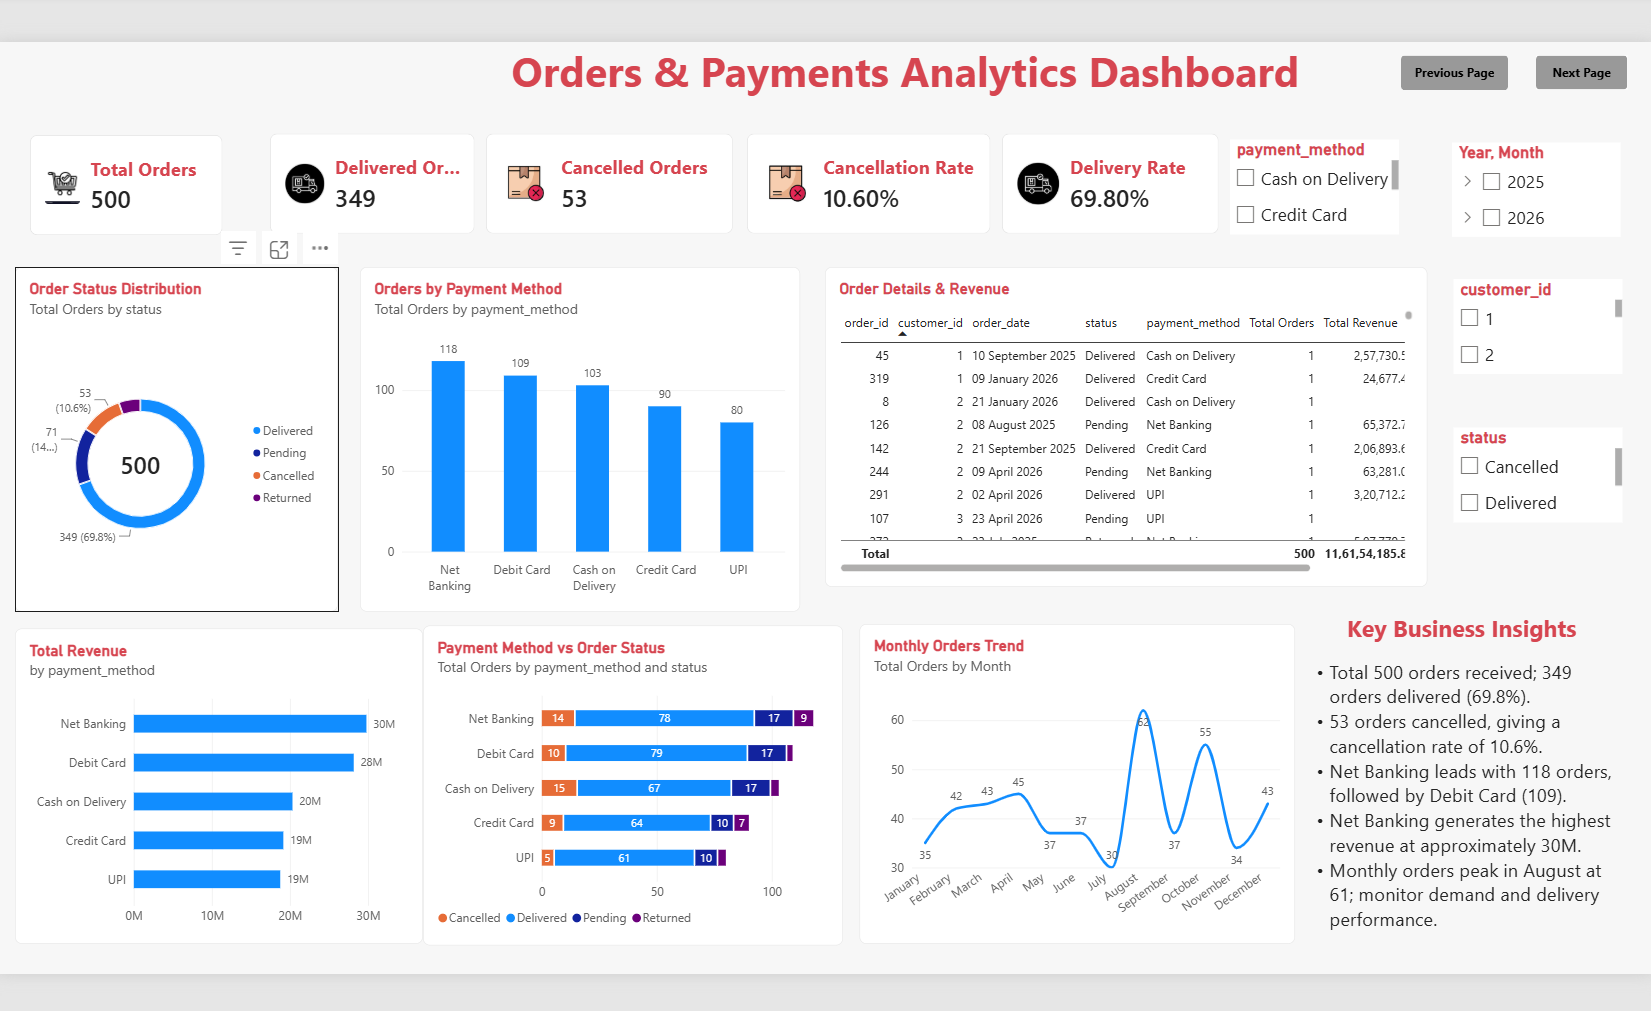

This screenshot's page, from the dashboard's own definition file:
{"tool":"powerbi","page":{"name":"Orders & Payment Analytics","canvas":[1920,1080],"ordinal":3},"visuals":[{"type":"textbox","box":[596.4,0,930.2,78.4],"z":0},{"type":"cardVisual","fields":{"Data":["order_items.Total Orders"]},"box":[37.6,107.4,223.7,116.3],"z":1000},{"type":"cardVisual","fields":{"Data":["order_items.Delivered Orders"]},"box":[315.5,105.8,237.1,116.7],"z":2000},{"type":"cardVisual","fields":{"Data":["orders.Cancelled Orders"]},"box":[567.3,105.8,286.4,116.7],"z":3000},{"type":"cardVisual","fields":{"Data":["orders.Cancellation Rate"]},"box":[868.2,105.8,282.7,116.7],"z":4000},{"type":"cardVisual","fields":{"Data":["orders.Delivery Rate"]},"box":[1163.7,105.8,251.7,116.7],"z":5000},{"type":"donutChart","title":"Order Status Distribution","fields":{"Category":["orders.status"],"Y":["order_items.Total Orders"]},"box":[21.5,261.3,374.1,399.2],"z":6000},{"type":"clusteredColumnChart","title":"Orders by Payment Method","fields":{"Category":["orders.payment_method"],"Y":["order_items.Total Orders"]},"box":[420.6,261.3,510.1,399.2],"z":7000},{"type":"clusteredBarChart","fields":{"Category":["orders.payment_method"],"Y":["order_items.Total Revenue"]},"box":[21.5,680.2,472.5,365.1],"z":8000},{"type":"lineChart","title":"Monthly Orders Trend","fields":{"Category":["DateTable.Date Hierarchy.Year","DateTable.Date Hierarchy.Month"],"Y":["order_items.Total Orders"]},"box":[998.8,674.8,504.8,370.5],"z":9000},{"type":"barChart","title":"Payment Method vs Order Status","fields":{"Category":["orders.payment_method"],"Series":["orders.status"],"Y":["order_items.Total Orders"]},"box":[494,676.6,486.9,370.5],"z":10000},{"type":"tableEx","title":"Order Details & Revenue","fields":{"Values":["orders.order_id","customers.customer_id","orders.order_date","orders.status","orders.payment_method","order_items.Total Orders","order_items.Total Revenue","order_items.Order Revenue"]},"box":[959.4,261.3,698.1,370.5],"z":11000},{"type":"textbox","box":[1512.1,660.5,370.2,384.1],"z":12000},{"type":"slicer","fields":{"Values":["DateTable.Date Hierarchy.Year","DateTable.Date Hierarchy.Month"]},"box":[1686.1,116.3,195.1,109.2],"z":13000},{"type":"slicer","fields":{"Values":["orders.status"]},"box":[1687.9,447.5,195.1,109.2],"z":14000},{"type":"slicer","fields":{"Values":["orders.payment_method"]},"box":[1428.4,112.8,195.1,109.2],"z":15000},{"type":"slicer","fields":{"Values":["orders.customer_id"]},"box":[1687.9,273.9,195.1,109.2],"z":16000},{"type":"actionButton","box":[1627,16.4,124,40.1],"z":16001},{"type":"actionButton","box":[1783.8,16.4,105.7,39.4],"z":16002}]}

Visuals, with their boxes on the page's 1920x1080 design canvas (x1, y1, x2, y2). These are canvas units, not pixel positions in the 1651x1011 screenshot, which may show the page scaled, cropped or inside an application window:
textbox: bbox=(596, 0, 1527, 78)
cardVisual - order_items.Total Orders: bbox=(38, 107, 261, 224)
cardVisual - order_items.Delivered Orders: bbox=(316, 106, 553, 222)
cardVisual - orders.Cancelled Orders: bbox=(567, 106, 854, 222)
cardVisual - orders.Cancellation Rate: bbox=(868, 106, 1151, 222)
cardVisual - orders.Delivery Rate: bbox=(1164, 106, 1415, 222)
"Order Status Distribution" donutChart: bbox=(22, 261, 396, 660)
"Orders by Payment Method" clusteredColumnChart: bbox=(421, 261, 931, 660)
clusteredBarChart - orders.payment_method x order_items.Total Revenue: bbox=(22, 680, 494, 1045)
"Monthly Orders Trend" lineChart: bbox=(999, 675, 1504, 1045)
"Payment Method vs Order Status" barChart: bbox=(494, 677, 981, 1047)
"Order Details & Revenue" tableEx: bbox=(959, 261, 1658, 632)
textbox: bbox=(1512, 660, 1882, 1045)
slicer - DateTable.Date Hierarchy.Year x DateTable.Date Hierarchy.Month: bbox=(1686, 116, 1881, 226)
slicer - orders.status: bbox=(1688, 448, 1883, 557)
slicer - orders.payment_method: bbox=(1428, 113, 1624, 222)
slicer - orders.customer_id: bbox=(1688, 274, 1883, 383)
actionButton: bbox=(1627, 16, 1751, 56)
actionButton: bbox=(1784, 16, 1890, 56)
